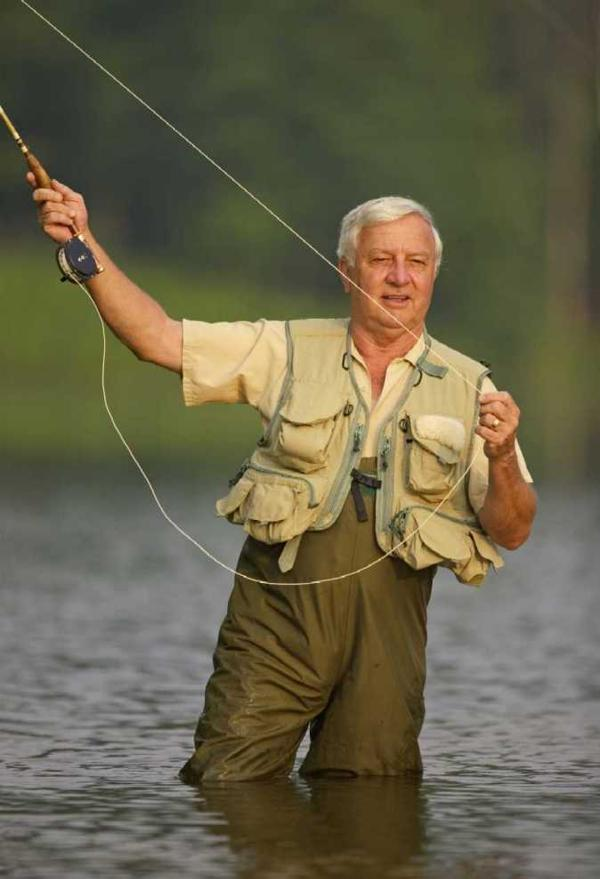person: (26, 169, 535, 785)
